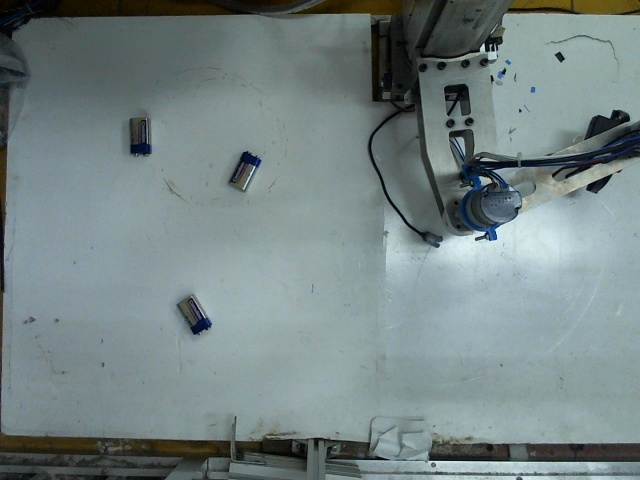battery: (227, 150, 264, 192), (177, 290, 210, 331), (125, 113, 151, 155)
